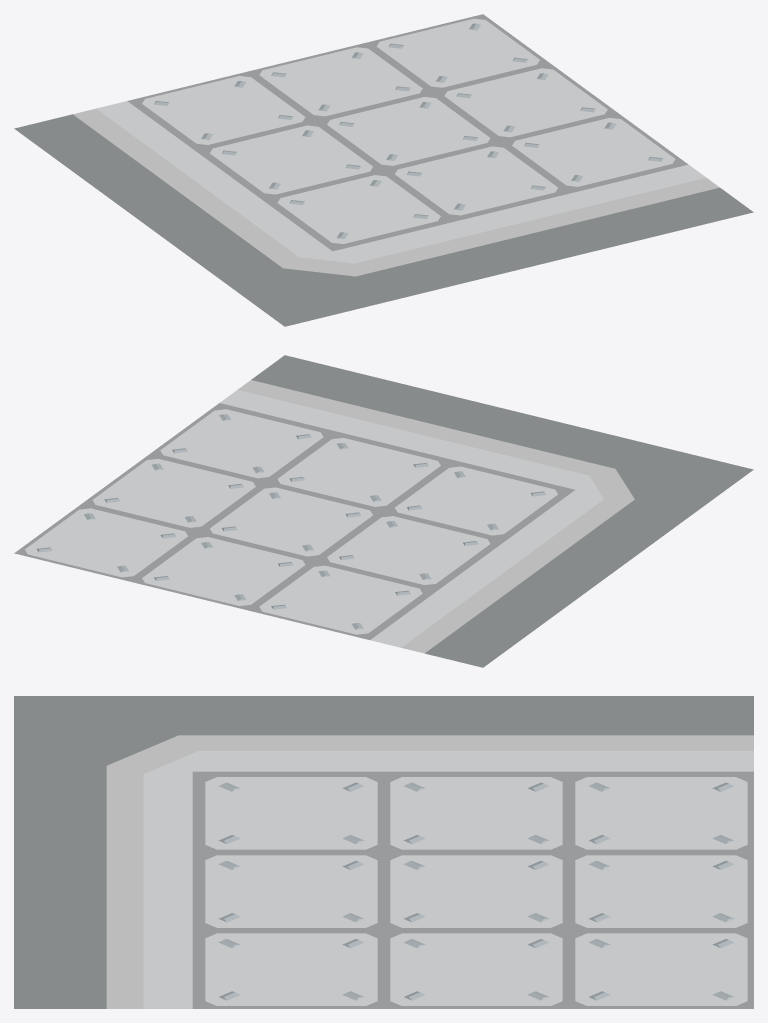
Rendered from Floor_type_A_003.fbx.
The picture shows the model from 3 angles, top to bottom: view 1: azimuth 30°, elevation 25°; view 2: azimuth 150°, elevation 25°; view 3: azimuth 270°, elevation 25°; orthographic projection. The views are drawn at different scales.
Visible parts, largest first — view 1: Floor_type_A_003; view 2: Floor_type_A_003; view 3: Floor_type_A_003.
Part boxes in pixels (x1,y1,x2,y2): Floor_type_A_003: [14, 14, 753, 326]; Floor_type_A_003: [14, 355, 753, 667]; Floor_type_A_003: [14, 696, 753, 1008].
Size of the model in its own units: 400 by 400 by 0.8.
